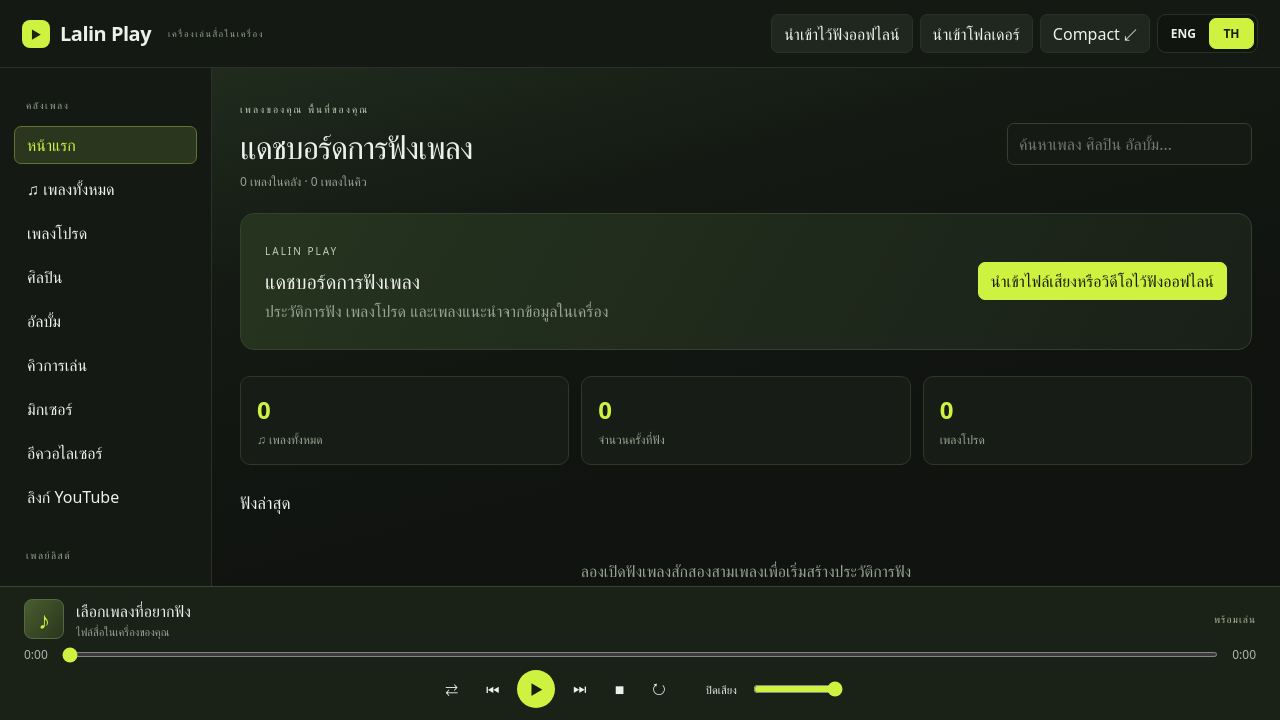
Test: standalone surfaces (mocked IPC; native evidence is separate) › localizes managed and user source badges in Thai
Click the button "♫ เพลงทั้งหมด" at (106, 189), box [14,170,197,208]
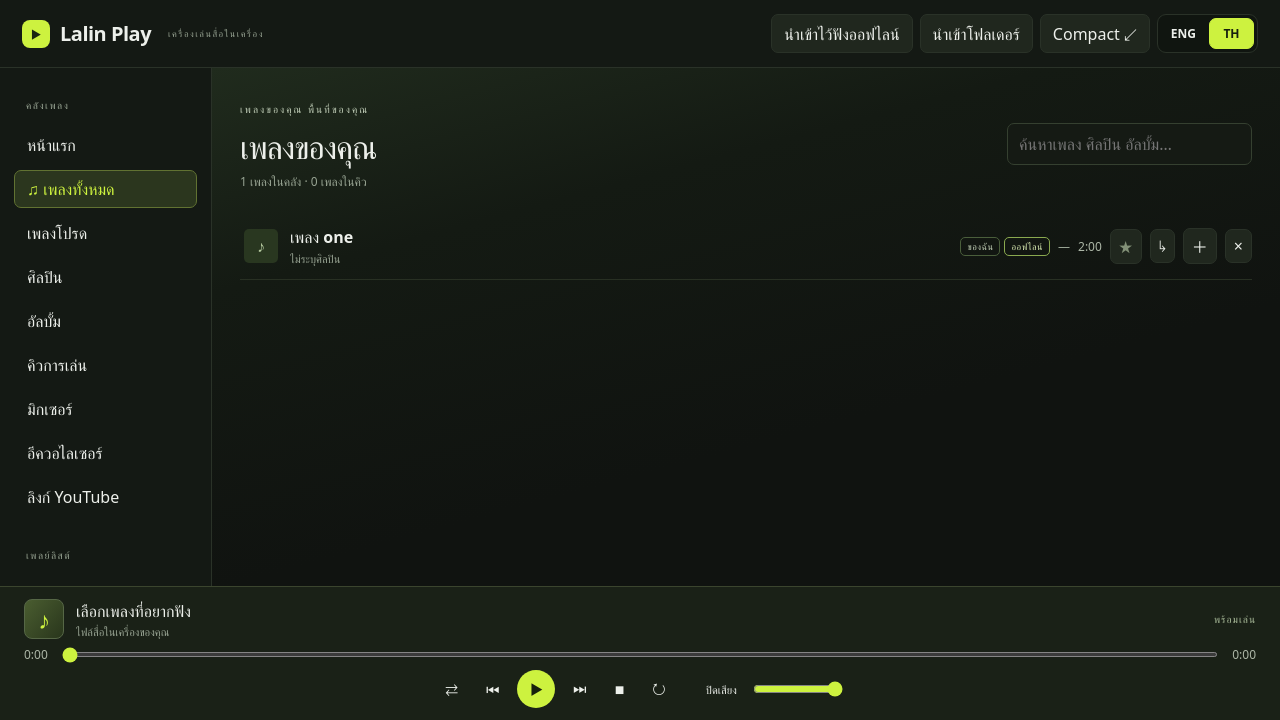
Check: the text "ออฟไลน์" is shown, box [1004,237,1050,256]
Check: the text "ของฉัน" is shown, box [960,237,1000,256]
